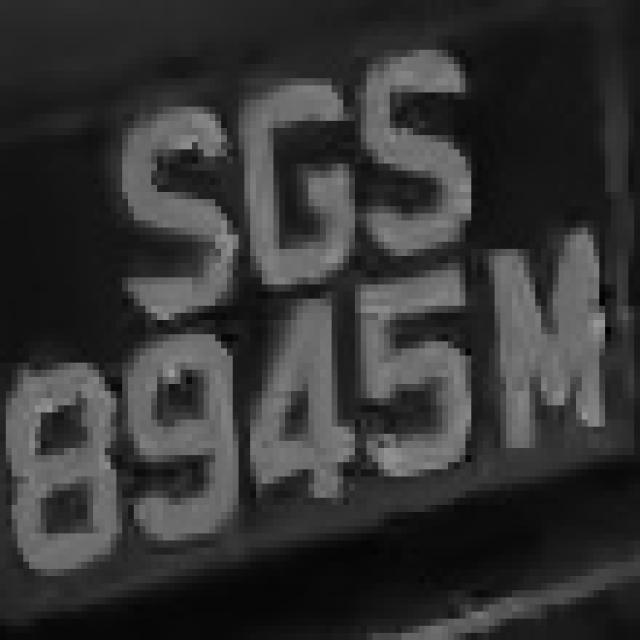4: (221, 291, 378, 505)
5: (349, 256, 483, 491)
8: (17, 334, 134, 604)
9: (110, 298, 238, 562)
G: (227, 64, 366, 306)
M: (466, 242, 628, 469)
S: (93, 100, 244, 327), (343, 50, 495, 263)
